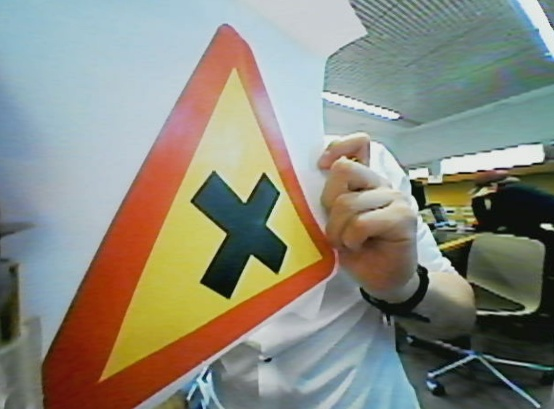junction: (43, 12, 330, 409)
